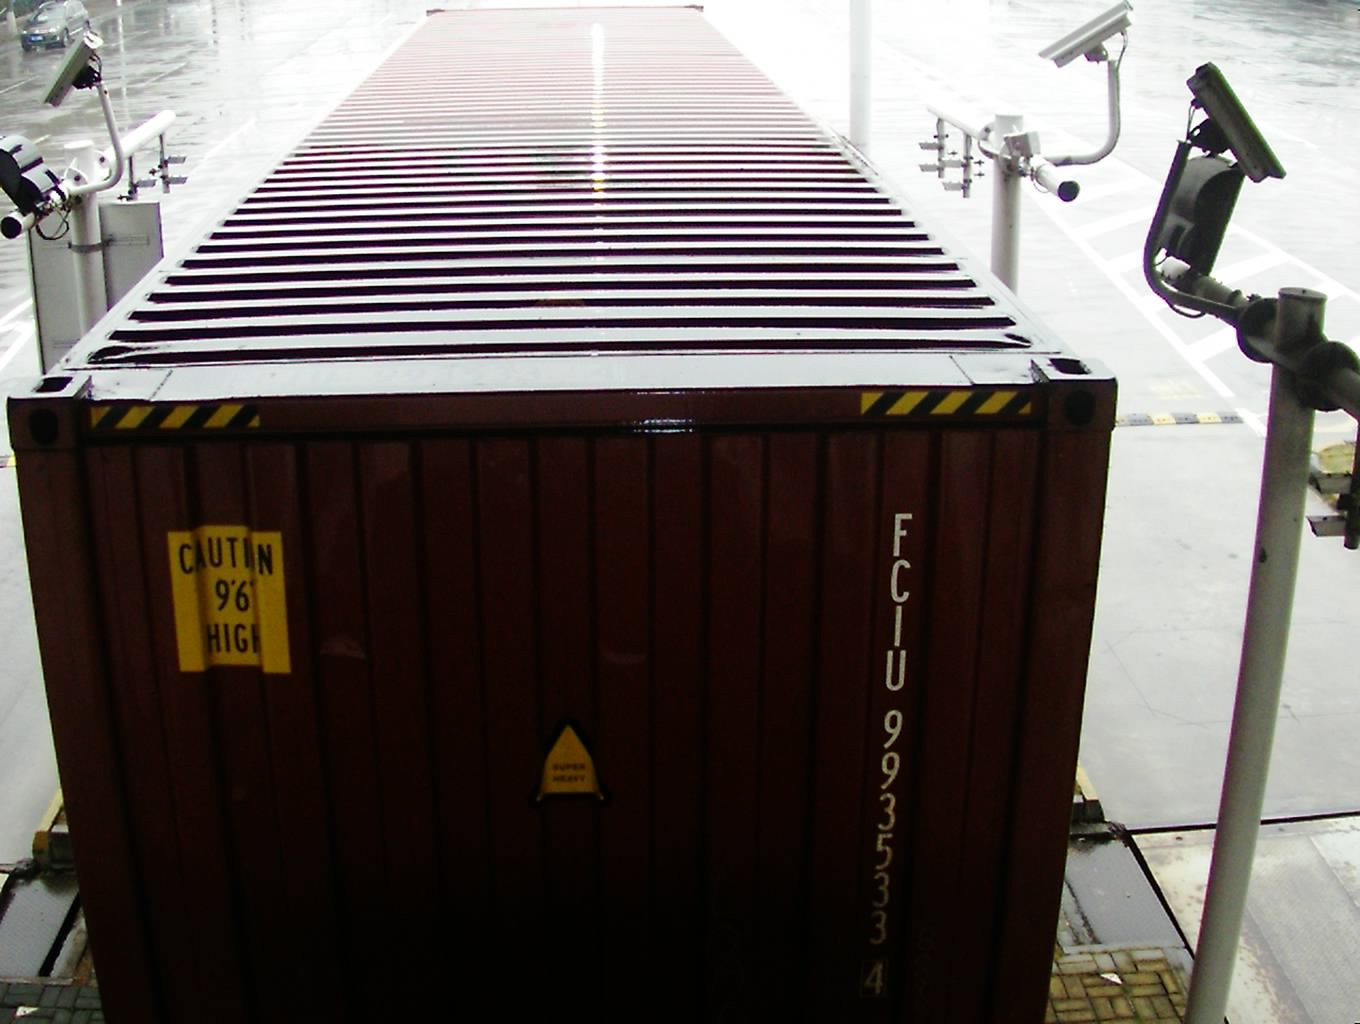words: (856, 500, 917, 1002)
